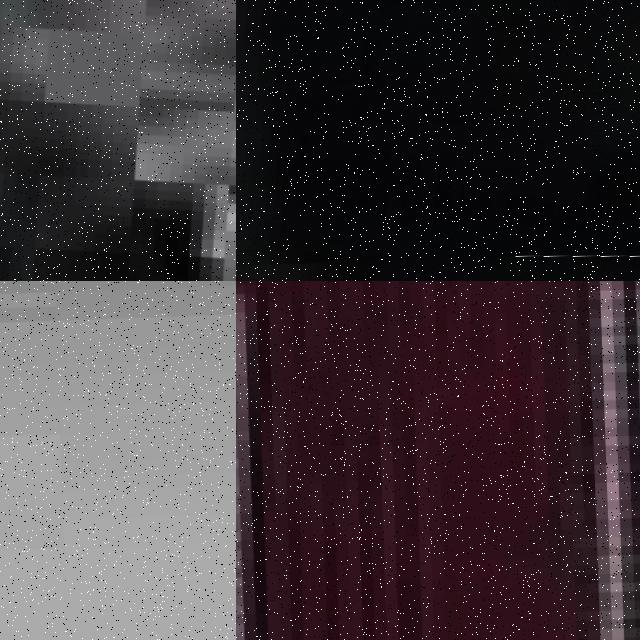drone: (236, 0, 640, 271), (0, 0, 236, 281)
